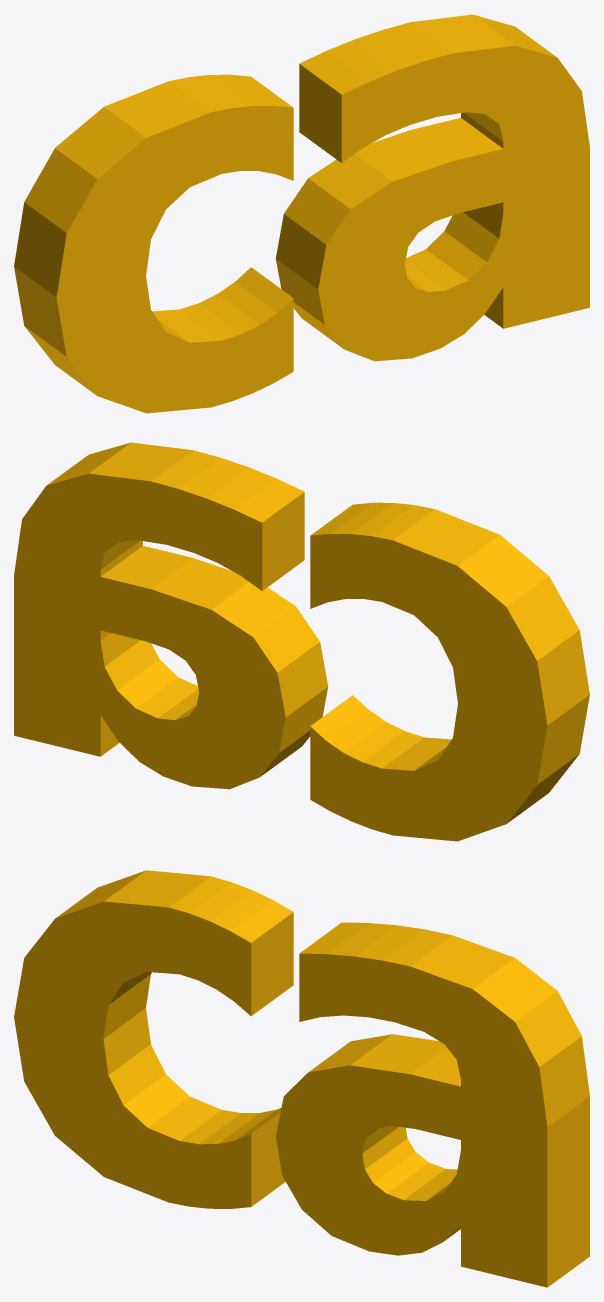
Rendered from suku_kecil_ca.glb.
The picture shows the model from 3 angles, top to bottom: view 1: azimuth 30°, elevation 25°; view 2: azimuth 150°, elevation 25°; view 3: azimuth 330°, elevation 25°; orthographic projection.
Visible parts, largest first — view 1: geometry_0; view 2: geometry_0; view 3: geometry_0.
Boxes of the visible parts, box(x1,y1,x2,y2) form: geometry_0: box(14, 14, 589, 413); geometry_0: box(14, 442, 589, 841); geometry_0: box(14, 870, 589, 1287).
Bounding box in the file's own units: 10.86 × 5.74 × 1.5.
